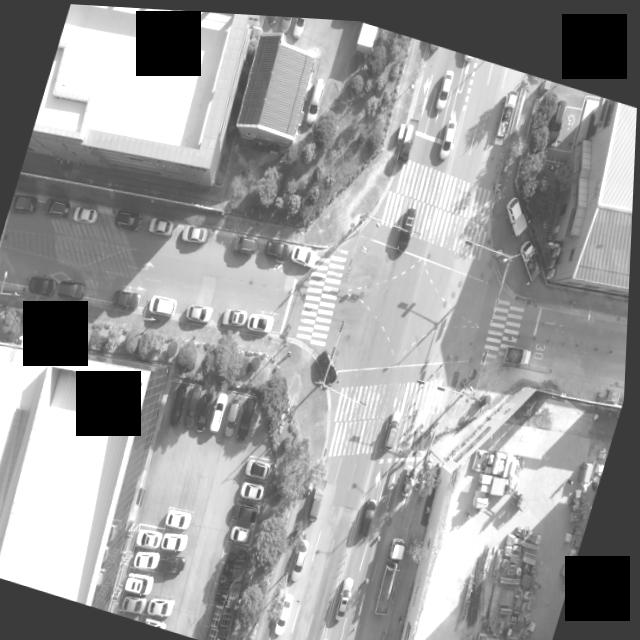car: (394, 203, 418, 251), (339, 569, 361, 617), (386, 403, 407, 447), (279, 589, 300, 632), (239, 395, 260, 438), (295, 536, 315, 579), (438, 113, 458, 154), (28, 272, 59, 298), (292, 539, 311, 581), (150, 591, 179, 618), (436, 64, 455, 105), (362, 492, 381, 533), (114, 205, 145, 230), (151, 290, 181, 315), (183, 218, 212, 243), (165, 525, 192, 551), (169, 503, 196, 529), (222, 301, 250, 326), (248, 307, 277, 331), (128, 570, 157, 594), (114, 286, 143, 310), (211, 393, 230, 429), (227, 398, 246, 434), (291, 240, 319, 264), (242, 476, 269, 500), (139, 545, 166, 569), (189, 297, 216, 321), (249, 453, 276, 477), (150, 212, 177, 236), (264, 234, 291, 258), (139, 524, 165, 548), (235, 229, 261, 253), (74, 203, 100, 226), (45, 197, 71, 220), (239, 497, 264, 520), (128, 592, 153, 614), (50, 193, 74, 214), (77, 198, 100, 219), (234, 520, 256, 541), (148, 613, 171, 626)
small_truck: (499, 186, 535, 236), (514, 234, 550, 283), (493, 82, 522, 139), (309, 472, 332, 520), (398, 114, 420, 160), (505, 337, 536, 364)
